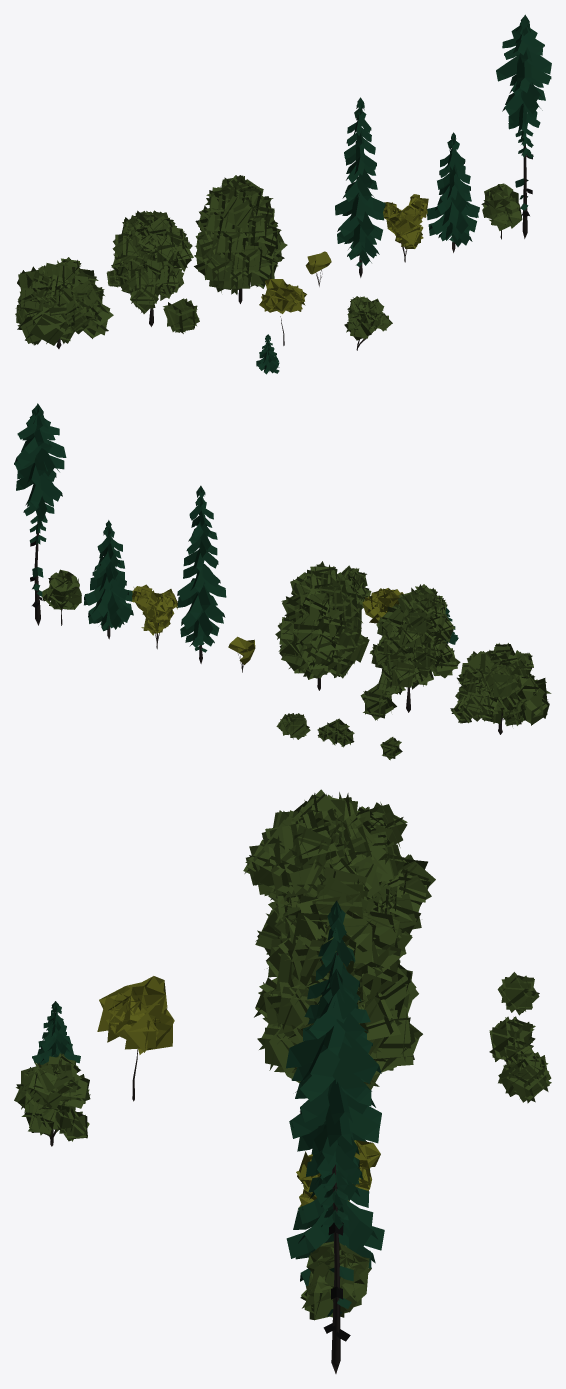
3 views of the same model, one above another, from view 1: azimuth 30°, elevation 25°; view 2: azimuth 150°, elevation 25°; view 3: azimuth 270°, elevation 25° (orthographic). The views are drawn at different scales.
Parts seen in each view (by area): view 1: Tree_Big_a_LOD1_45, Object_44, Object_36, Conifer_LOD1_41, Object_101, Object_15, Object_123, Object_9, Object_188, Object_194, Object_94, Object_25; view 2: Tree_Big_a_LOD1_45, Object_36, Object_44, Conifer_LOD1_41, Object_101, Object_15, Object_123, Object_188, Object_194, Object_94, Bush_b_10, Bush_c_11 (+2 smaller); view 3: Tree_Big_a_LOD1_45, Conifer_LOD1_41, Object_36, Object_44, Object_15, Object_9, Object_194, Object_101, Object_188, Bush_c_11, Bush_b_10, Object_25 (+2 smaller).
Boxes of the visible parts, x1,y1,x2,y2 form: Tree_Big_a_LOD1_45: (194,175,287,303); Object_44: (15,257,113,345); Object_36: (111,210,193,313); Conifer_LOD1_41: (496,14,551,238); Object_101: (335,97,385,277); Object_15: (427,132,479,252); Object_123: (383,194,428,262); Object_9: (344,296,392,350); Object_188: (481,183,522,239); Object_194: (259,279,306,345); Object_94: (163,298,199,333); Object_25: (256,334,279,374); Tree_Big_a_LOD1_45: (275,561,369,690); Object_36: (369,584,460,694); Object_44: (450,643,551,726); Conifer_LOD1_41: (14,403,66,625); Object_101: (177,485,226,663); Object_15: (84,520,133,639); Object_123: (132,584,177,649); Object_188: (42,569,81,625); Object_194: (362,588,403,623); Object_94: (360,684,396,720); Bush_b_10: (317,718,354,747); Bush_c_11: (276,713,310,739); Tree_Big_a_LOD1_45: (254,875,422,1089); Conifer_LOD1_41: (286,969,381,1373); Object_36: (243,808,412,963); Object_44: (257,789,435,934); Object_15: (286,1124,384,1286); Object_9: (14,1053,90,1146); Object_194: (97,976,174,1101); Object_101: (289,900,381,1183); Object_188: (300,1241,371,1320); Bush_c_11: (498,1045,551,1103); Bush_b_10: (489,1016,535,1064); Object_25: (32,1001,80,1064).
Bounding box in the file's own units: 78.76 × 33.41 × 38.16.
